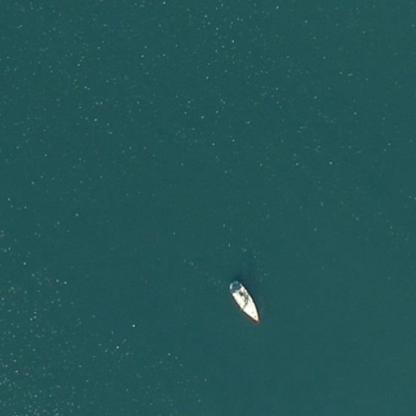ship: (227, 278, 261, 323)
